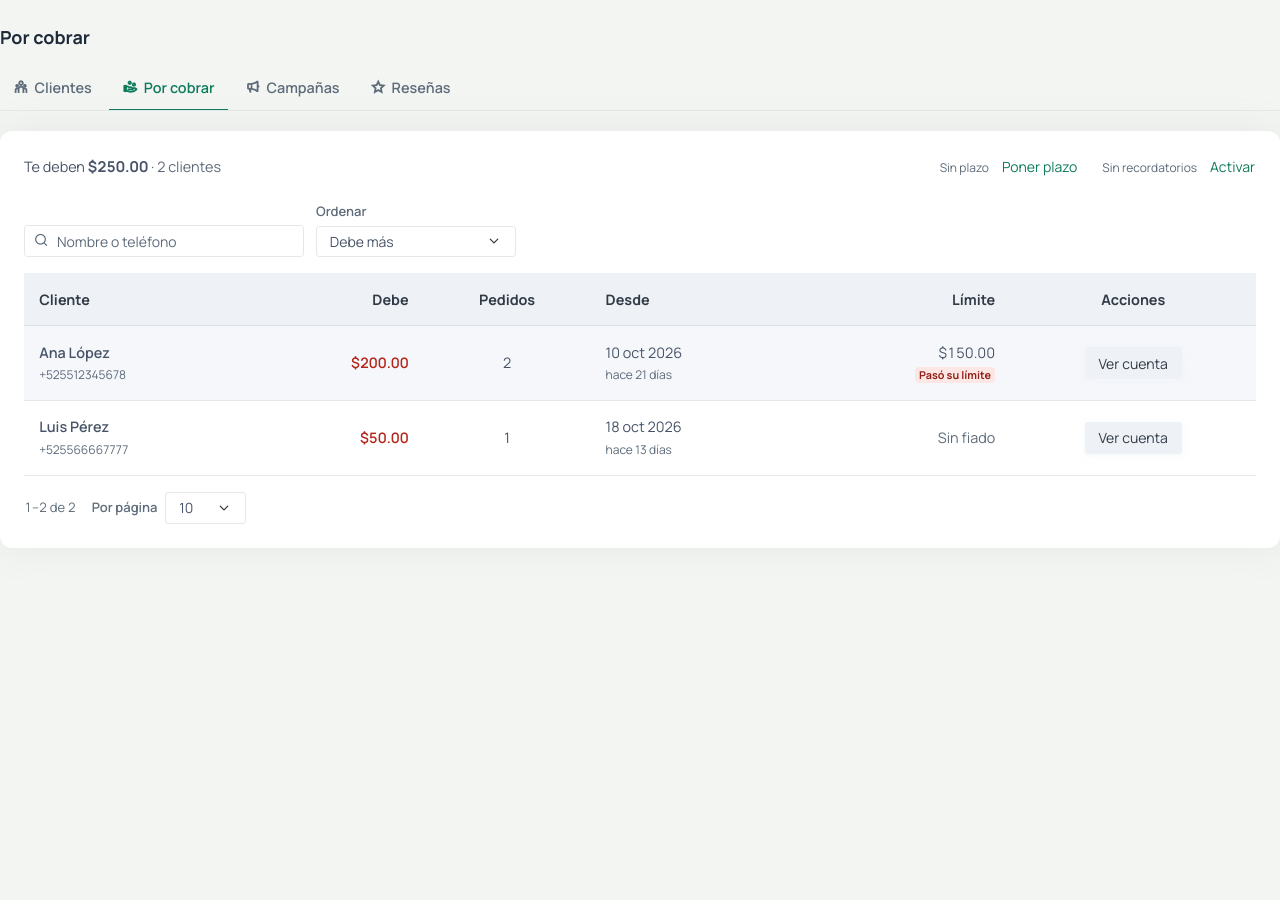
Test: ReceivablesPage › says why the server refused the term, and keeps it to try again
Click the button "Poner plazo". click: click(1040, 166)
box: [1001,155,1078,178]
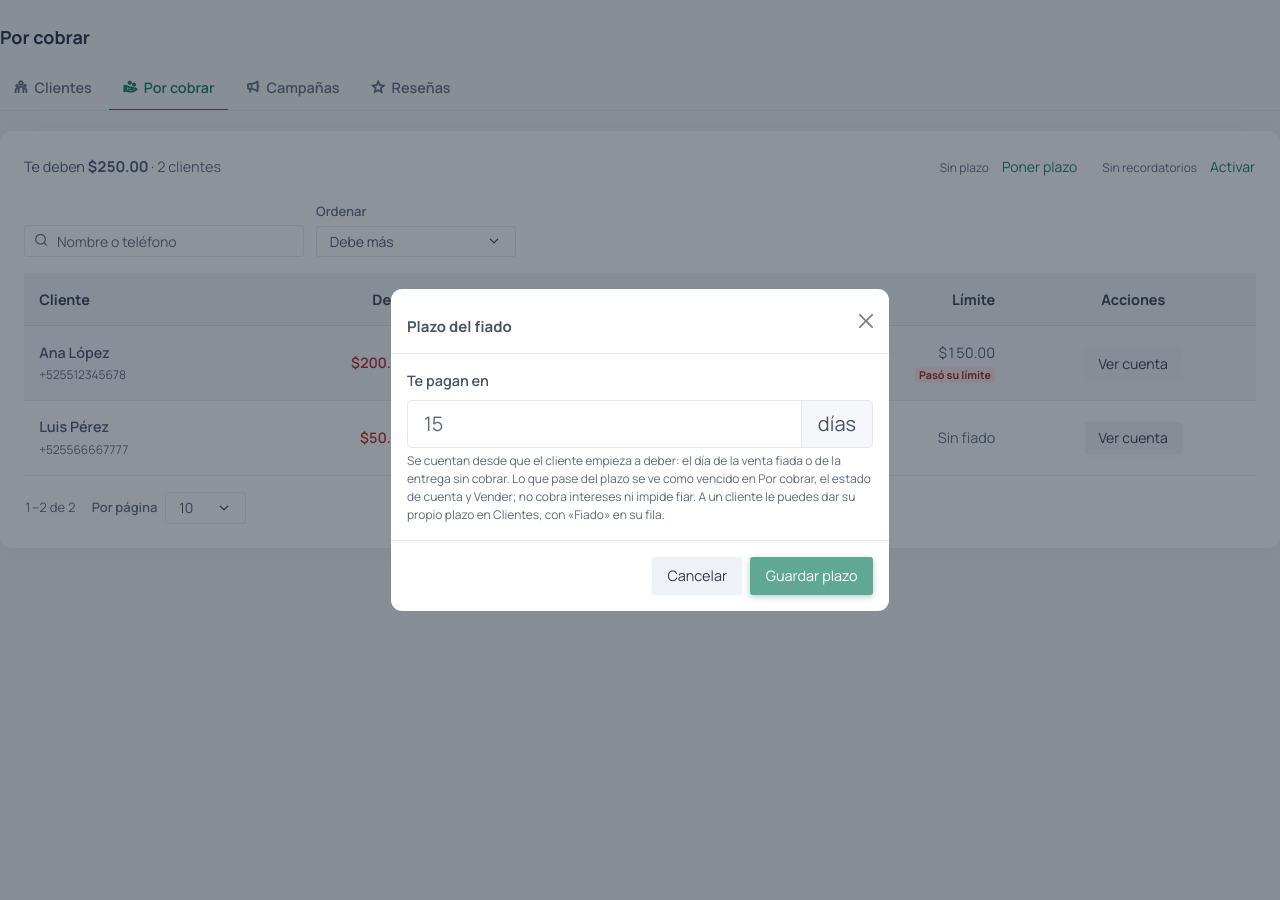
Type "30" into the field labelled "Te pagan en". click: (604, 424)
box: [407,400,802,448]
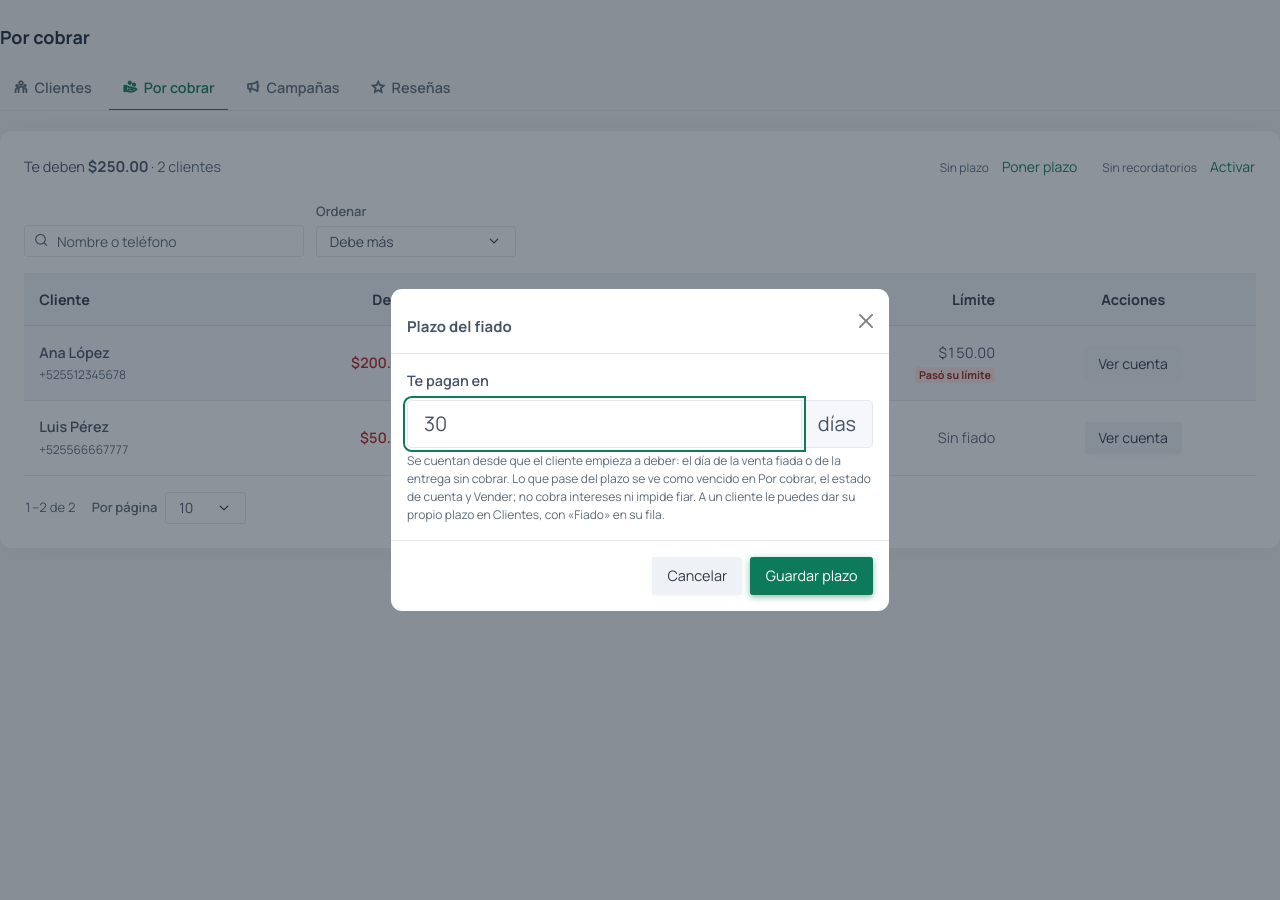
Click the button "Guardar plazo". click: click(812, 576)
box: [750,557,873,595]
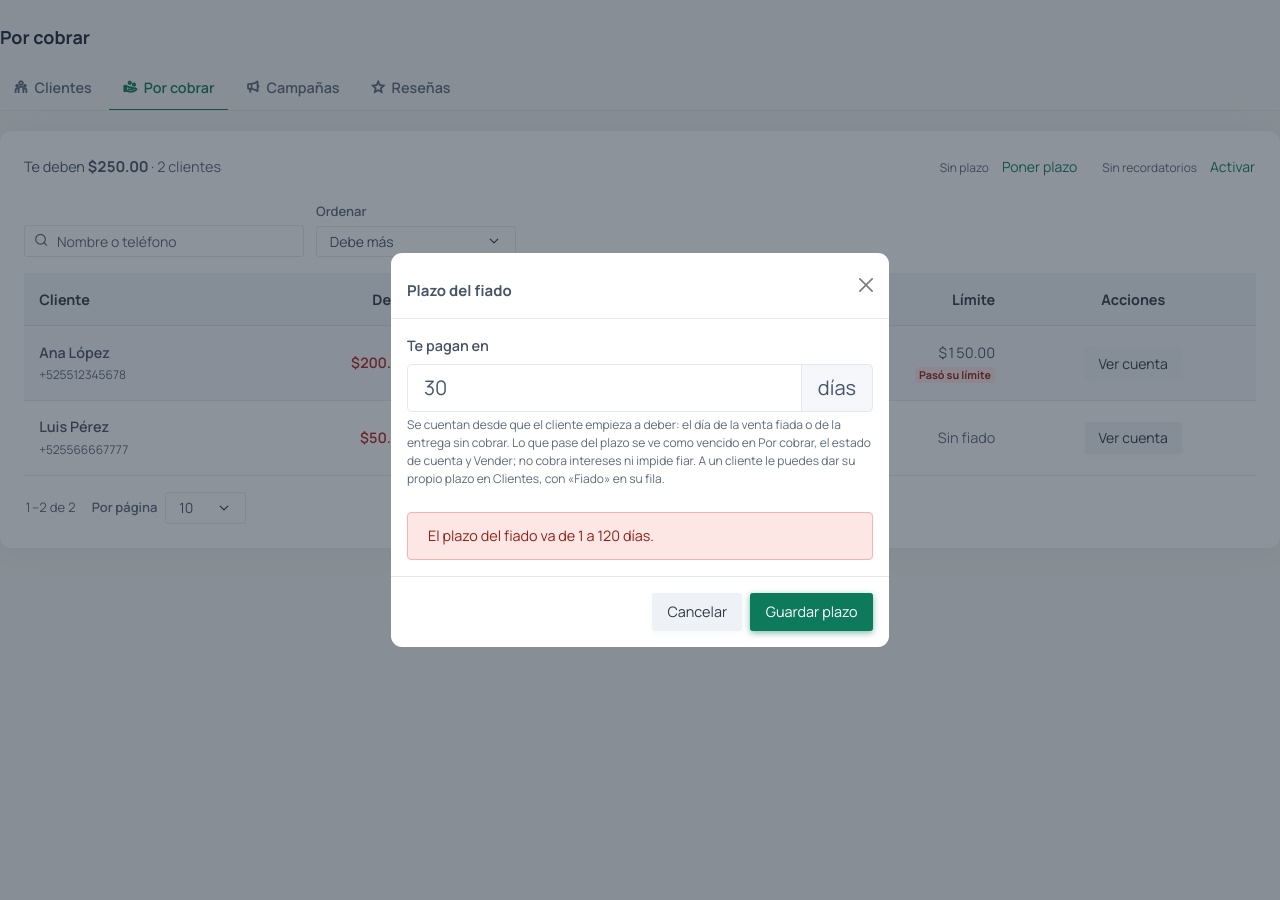
Result: the message reads "El plazo del fiado va de 1 a 120 días." at [428,526,654,545]
